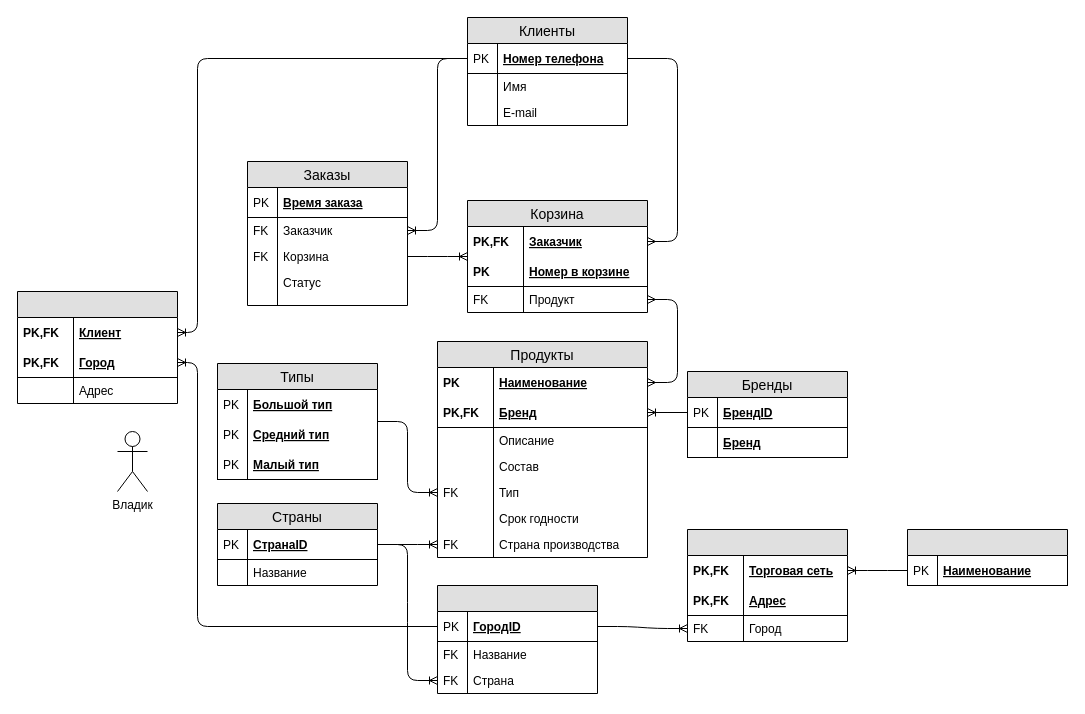
Some shapes in this 1085 by 714 pixel diagram are drawn without their labels. Each missing label, with the box of its shape:
Города: (436, 584, 598, 694)
Магазины: (686, 528, 848, 642)
Сохраненные адреса: (16, 290, 178, 404)
Торговые сети: (906, 528, 1068, 586)
